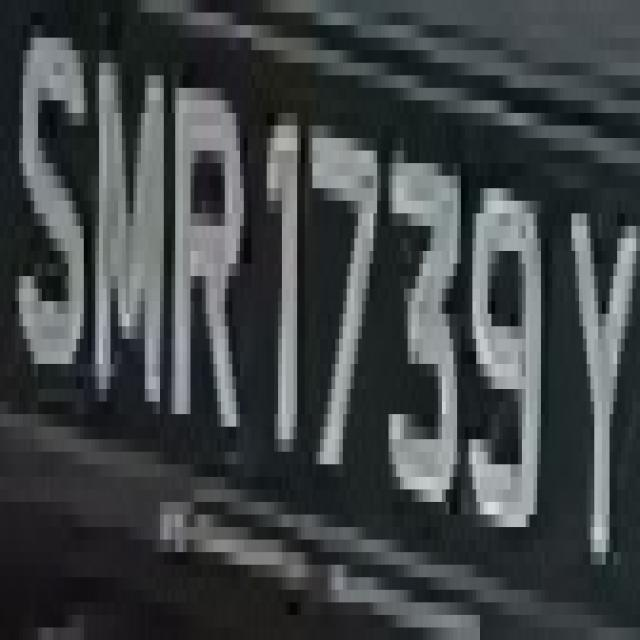1: (259, 63, 312, 452)
3: (374, 113, 468, 540)
7: (309, 88, 377, 502)
9: (465, 100, 545, 578)
M: (88, 38, 179, 426)
R: (168, 51, 236, 464)
S: (15, 13, 91, 389)
Y: (560, 138, 640, 577)
